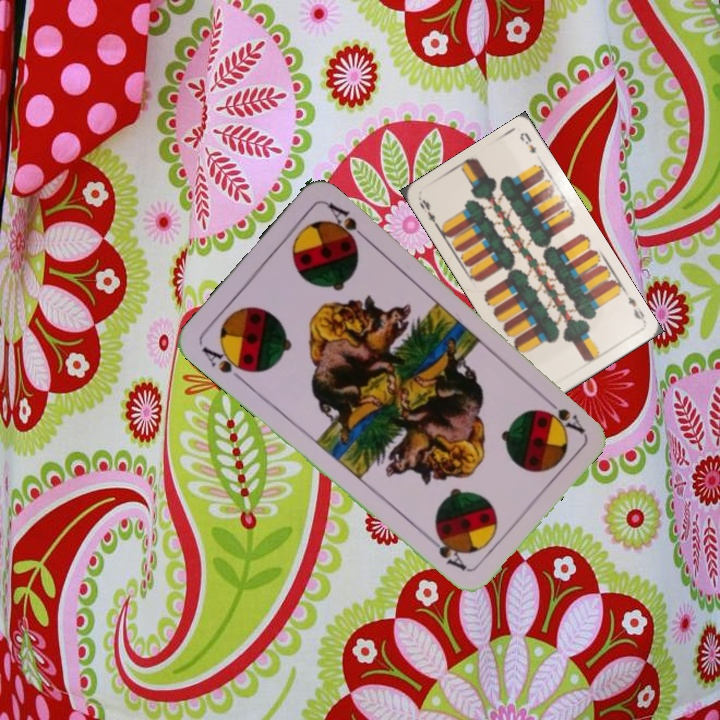E9: (415, 195, 442, 232), (623, 292, 648, 325)
SA: (197, 342, 253, 385), (537, 390, 587, 436)
